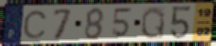5: (169, 5, 193, 40), (110, 7, 134, 40)
7: (52, 8, 74, 41)
8: (83, 7, 106, 41)
C: (22, 10, 49, 40)
Q: (140, 5, 166, 40)
